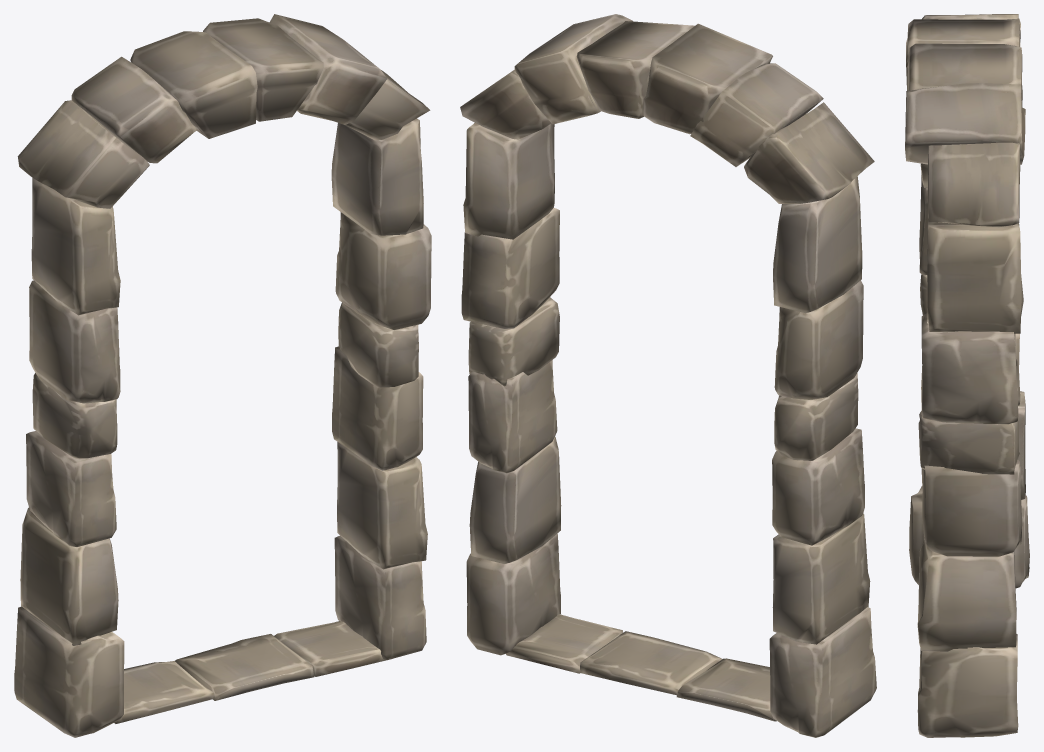
The model's file is DoorFrame_Round_Brick.gltf.
3 views of the same model, side by side, from view 1: azimuth 30°, elevation 25°; view 2: azimuth 150°, elevation 25°; view 3: azimuth 270°, elevation 25° (orthographic). The views are drawn at different scales.
Parts seen in each view (by area): view 1: DoorFrame_Round_Brick; view 2: DoorFrame_Round_Brick; view 3: DoorFrame_Round_Brick.
Part boxes in pixels (x1,y1,x2,y2): DoorFrame_Round_Brick: (14, 14, 431, 737); DoorFrame_Round_Brick: (460, 14, 876, 737); DoorFrame_Round_Brick: (905, 14, 1029, 737).
Bounding box in the file's own units: 1.6 × 2.59 × 0.4772.
1 material, 1 textured.
